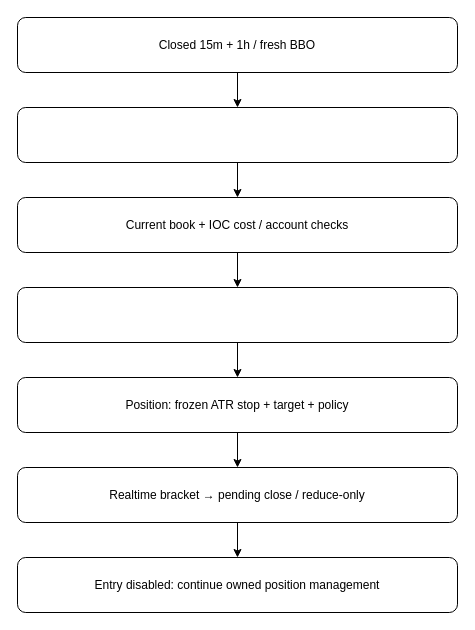
Image size: 475x630. Some labels were removed from this diagram. The shapes that lost their labels are listed below. From the top down, each one's centre as x and y in pixels, then its label:
At (237,134): "Five patterns → union tags / same-bar ID".
At (237,314): "Durable intent → IOC / reconcile".
